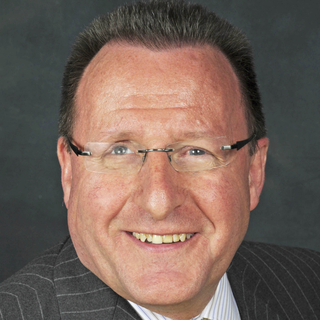eye: (169, 138, 220, 171), (100, 140, 147, 163)
